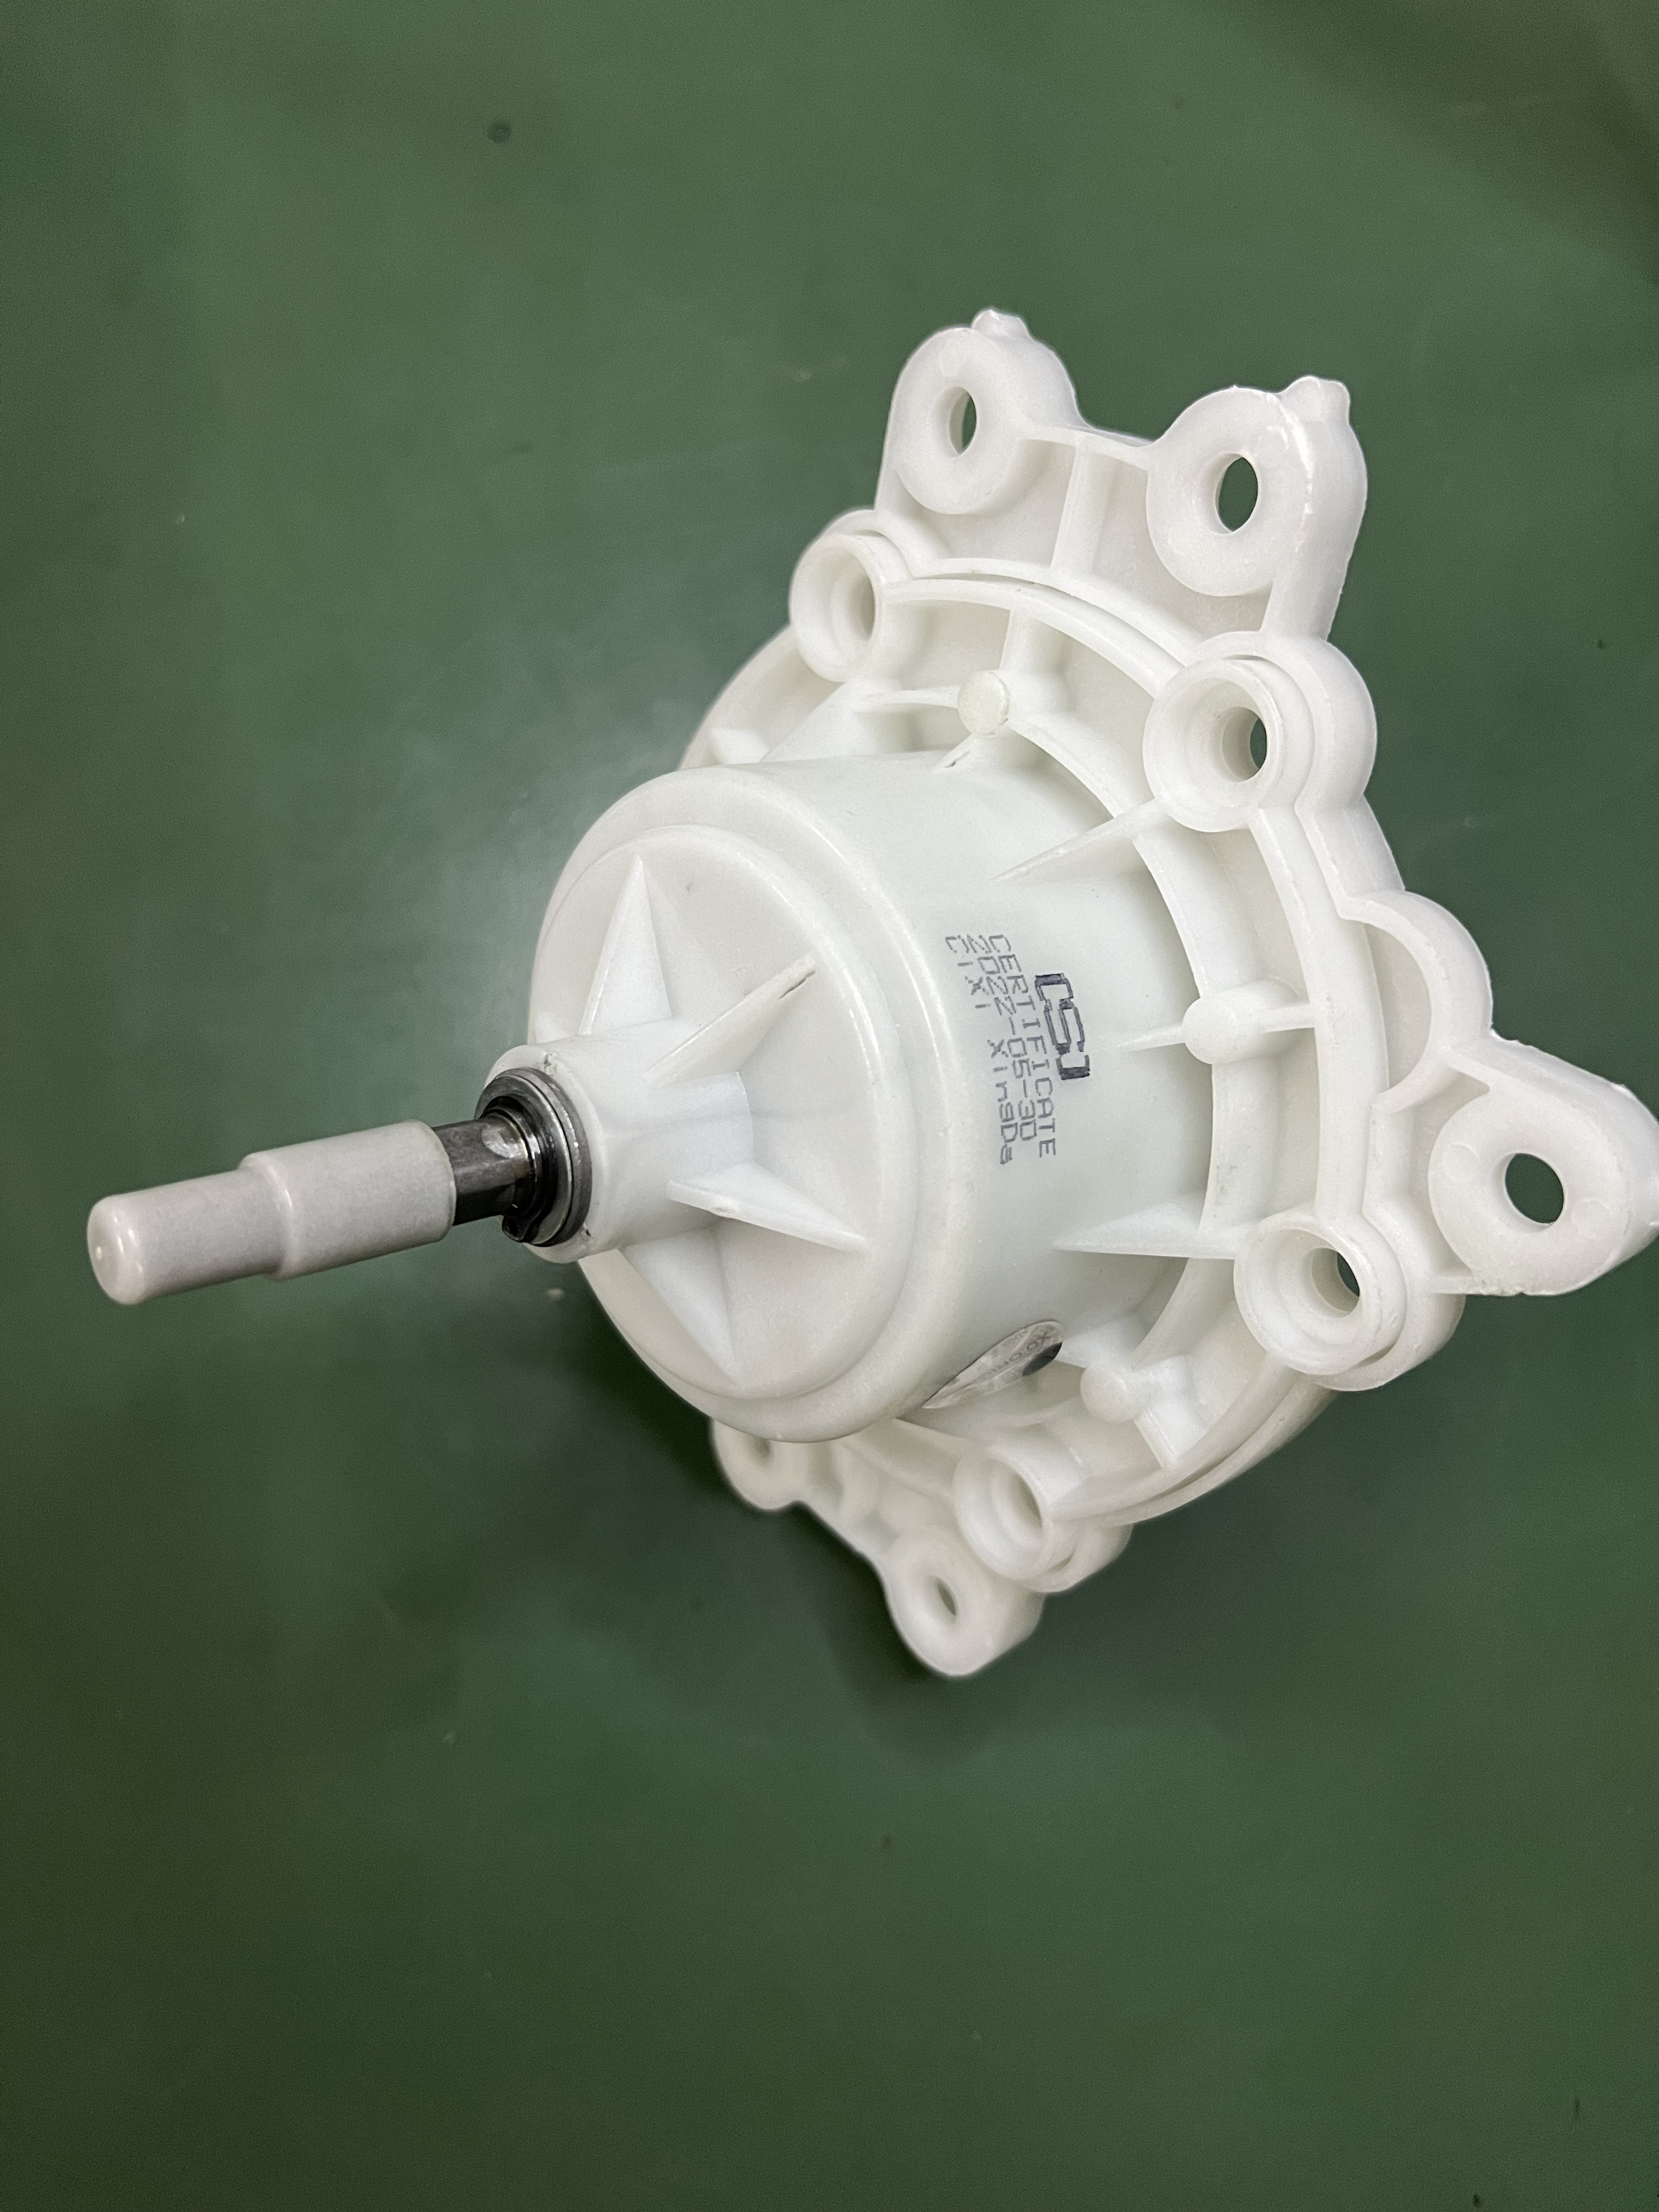gear_box_design: (105, 336, 1659, 1691)
